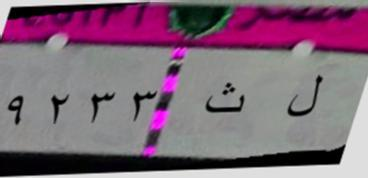2: (46, 90, 74, 124)
3: (86, 86, 115, 127), (130, 85, 158, 126)
9: (4, 90, 30, 133)
laam: (283, 64, 324, 127)
thaa: (200, 74, 247, 124)
